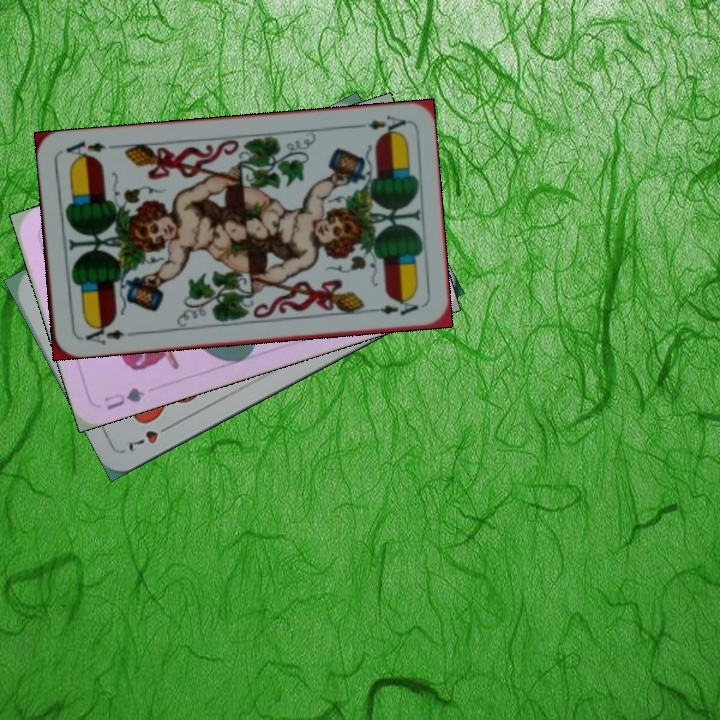EA: (350, 111, 409, 138), (76, 320, 128, 348)
GU: (100, 383, 148, 413)
H7: (124, 420, 176, 454)
